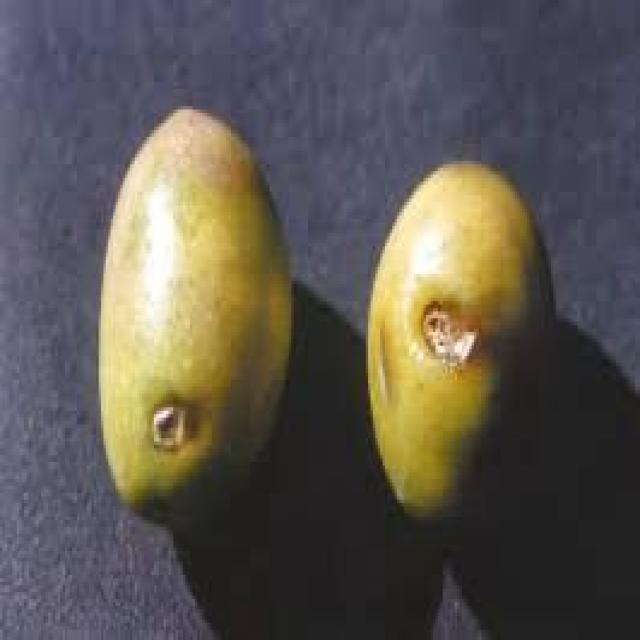Olive Fruit Fly: (99, 113, 291, 513), (368, 161, 553, 513)
